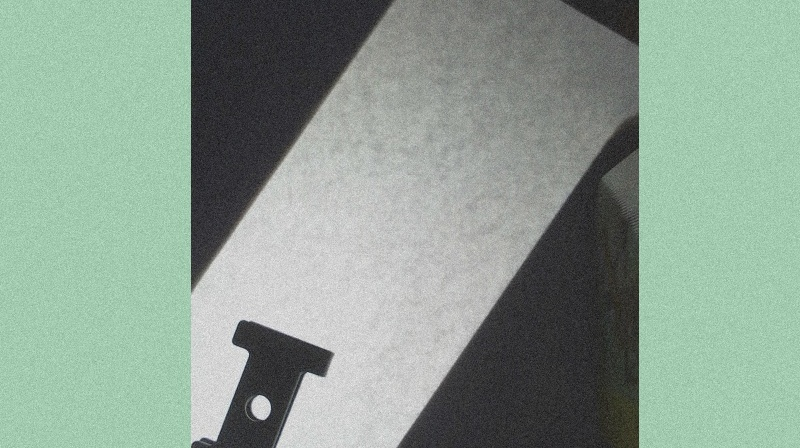O002: (191, 316, 335, 447)
